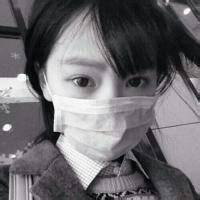face_mask: (52, 21, 157, 160)
